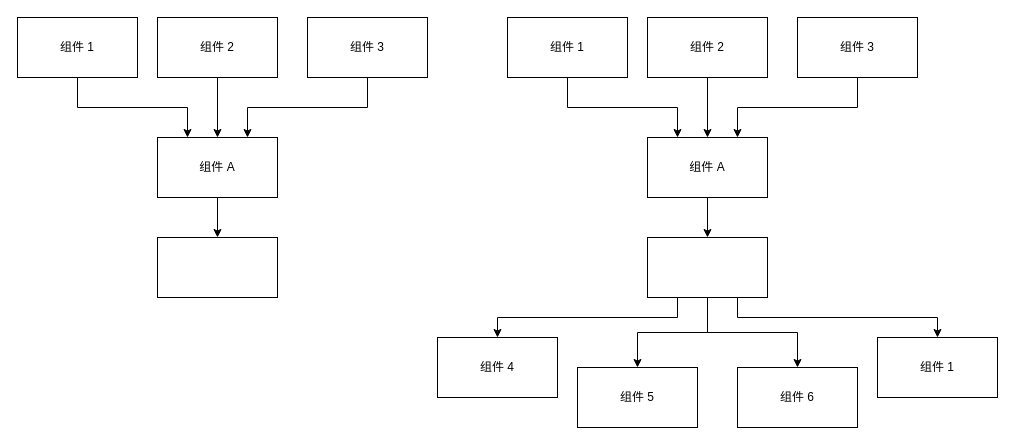
The diagram is 1015 pixels wide and 445 high, and some of its shapes have lost their labels. The box of each missing label's shape, as (x1, y1, x2, y2) in pixels:
组件 B （依赖带来的变更）: (646, 236, 768, 298)
组件 B （需求带来的 经常变更）: (156, 236, 278, 298)
